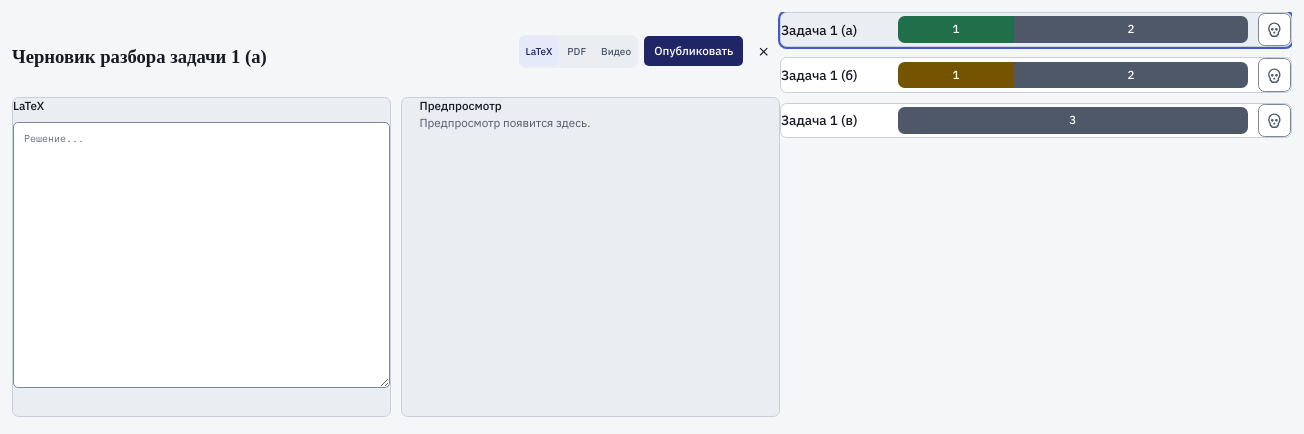
Scenario: TeacherProblemStats — разбор frame › opens a draft selected by a coffin link directly in edit mode
Click the tab "Видео" at (616, 51), box [594, 36, 638, 66]
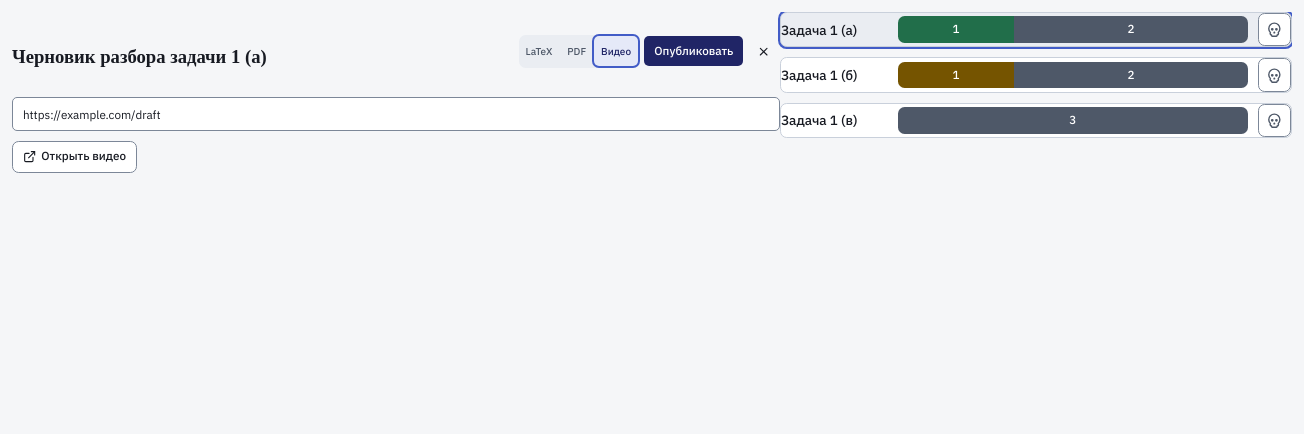
Check: the field named "Ссылка на видео" is shown, box [12, 97, 780, 131]
